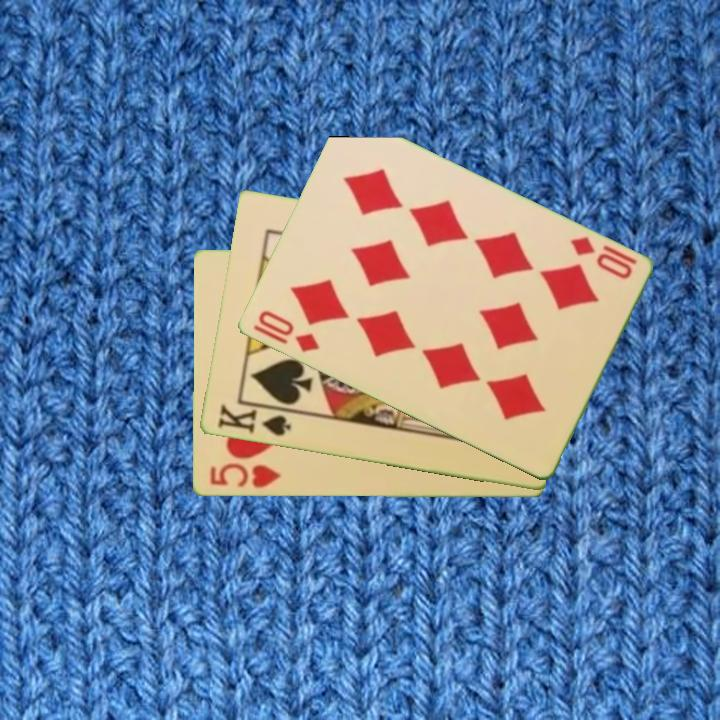10d: (566, 232, 635, 283), (253, 307, 322, 356)
5h: (207, 460, 284, 492)
Ks: (214, 400, 296, 440)
